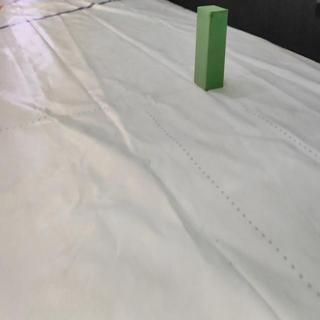greenbox: (195, 5, 228, 89)
